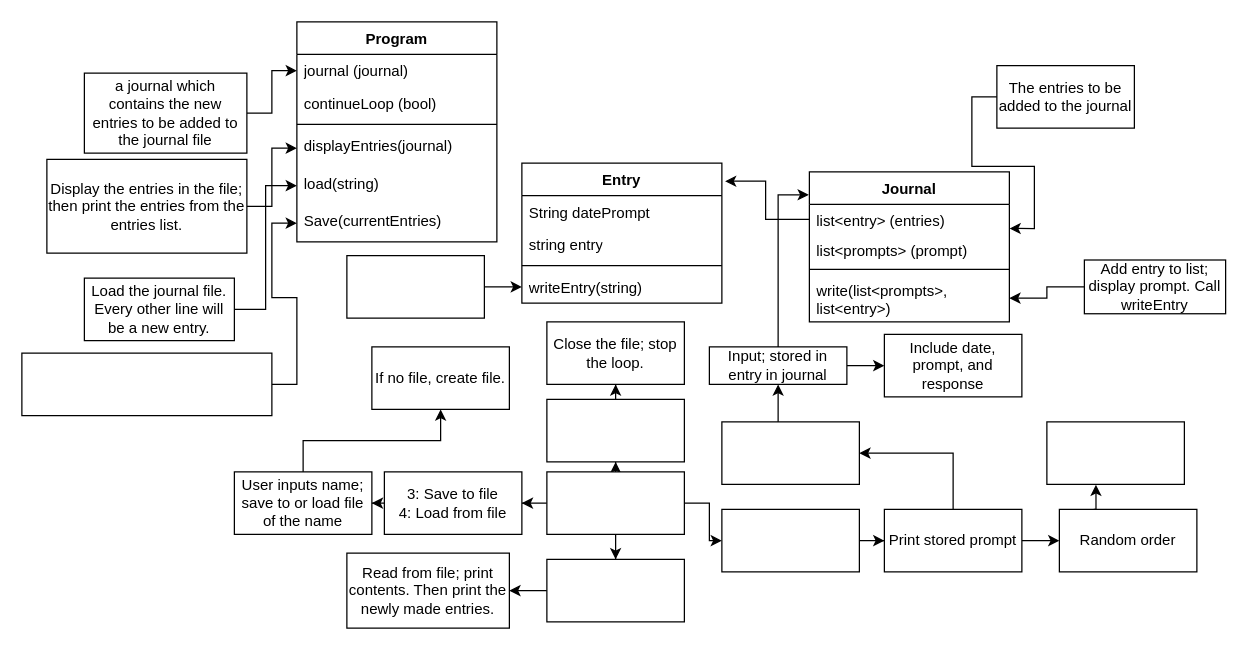
Some shapes in this 1248 by 650 pixel diagram are drawn without their labels. Each missing label, with the centre of its shape:
1: Prompt: the point at 790,540
2: Display Entries: the point at 615,590
5: Quit: the point at 615,430
Ask for the input; gather the date, combine: the point at 415,286
Optional: Add/Chose own prompt: the point at 1115,452
Print the entries onto the journal file; clear the entries list.: the point at 146,384
Responding to prompt: the point at 790,452
Select from menu: the point at 615,502
